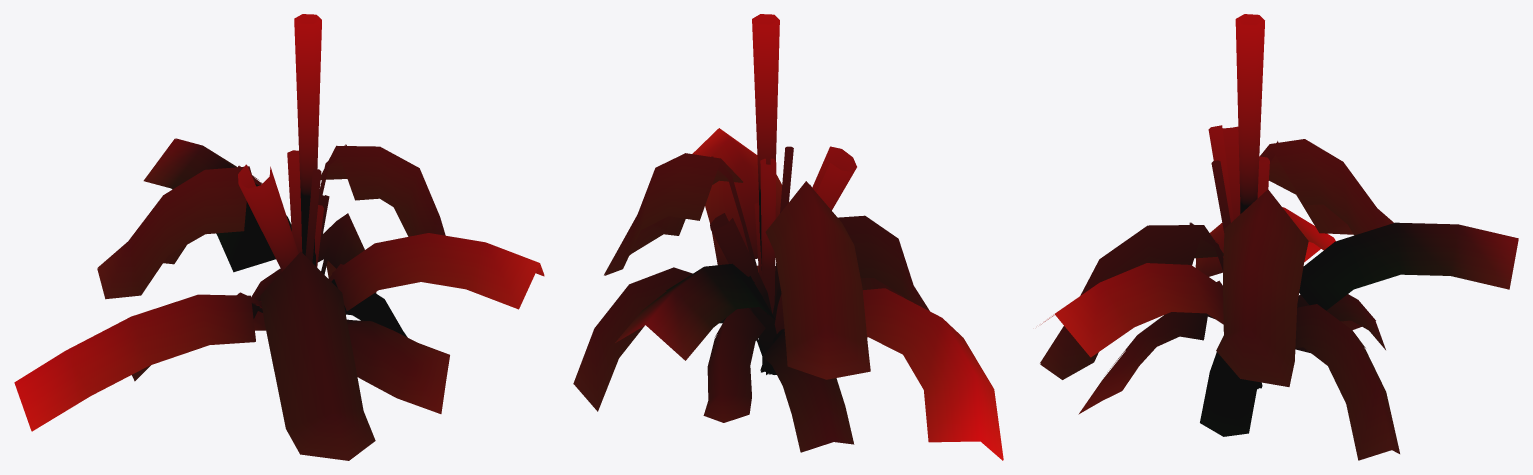
File: PalmPlant02_high.FBX
3 views of the same model, side by side, from view 1: azimuth 30°, elevation 25°; view 2: azimuth 150°, elevation 25°; view 3: azimuth 270°, elevation 25° (orthographic). The views are drawn at different scales.
Visible parts, largest first — view 1: PalmPlant02_high; view 2: PalmPlant02_high; view 3: PalmPlant02_high.
Boxes of the visible parts, x1=… form: PalmPlant02_high: x1=14, y1=14, x2=544, y2=460; PalmPlant02_high: x1=573, y1=14, x2=1003, y2=460; PalmPlant02_high: x1=1040, y1=14, x2=1518, y2=460.
Bounding box in the file's own units: 2.05 × 1.7 × 1.95.
